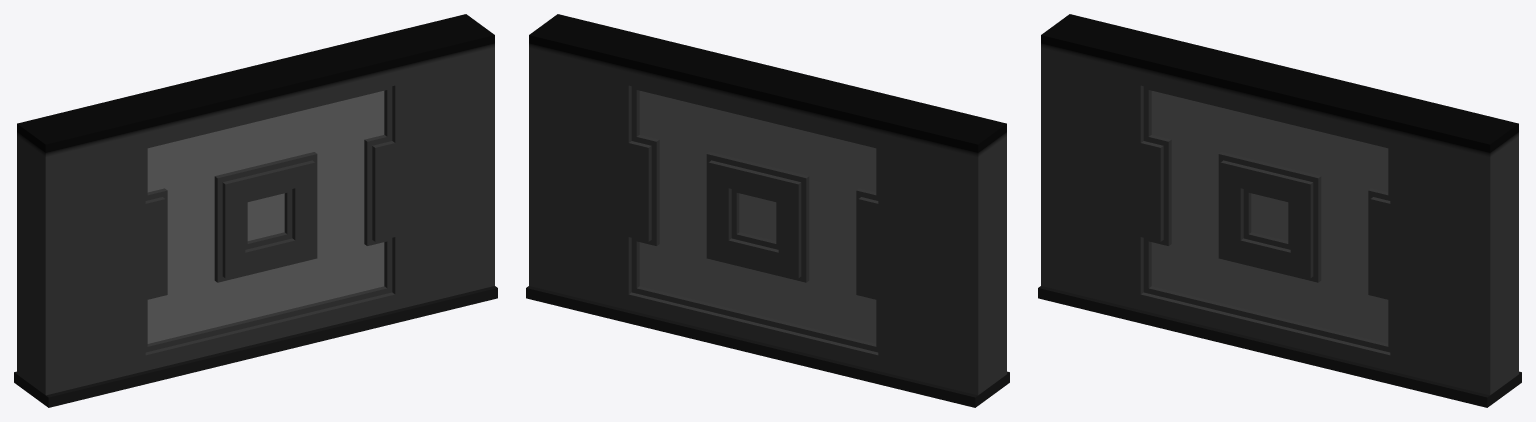
File: Wall-Stone-Model-05.fbx
3 renders of one model, left to right at view 1: azimuth 30°, elevation 25°; view 2: azimuth 150°, elevation 25°; view 3: azimuth 330°, elevation 25°, orthographic.
Visible parts, largest first — view 1: Wall-Stone-Model-05; view 2: Wall-Stone-Model-05; view 3: Wall-Stone-Model-05.
Part boxes in pixels (x1,y1,x2,y2): Wall-Stone-Model-05: (14, 14, 497, 407); Wall-Stone-Model-05: (526, 14, 1009, 407); Wall-Stone-Model-05: (1038, 14, 1521, 407).
Size of the model in its own units: 90 by 50 by 12.
1 material, 1 textured.
